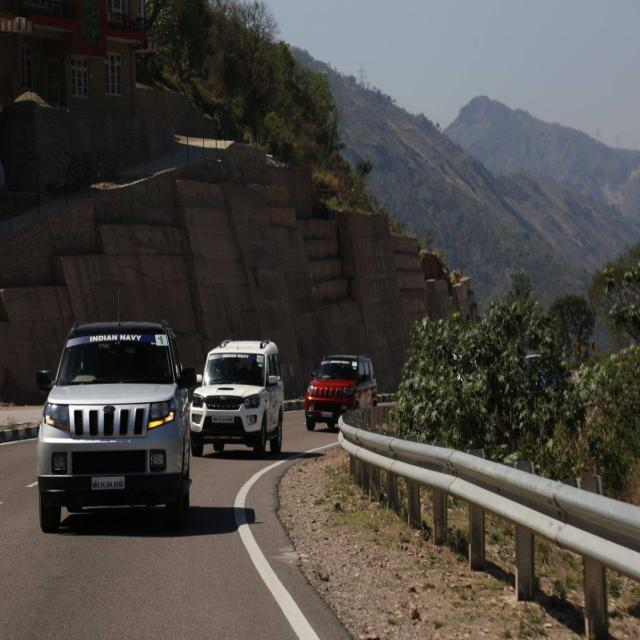plate: (89, 475, 126, 490), (206, 413, 236, 424), (319, 411, 336, 419)
